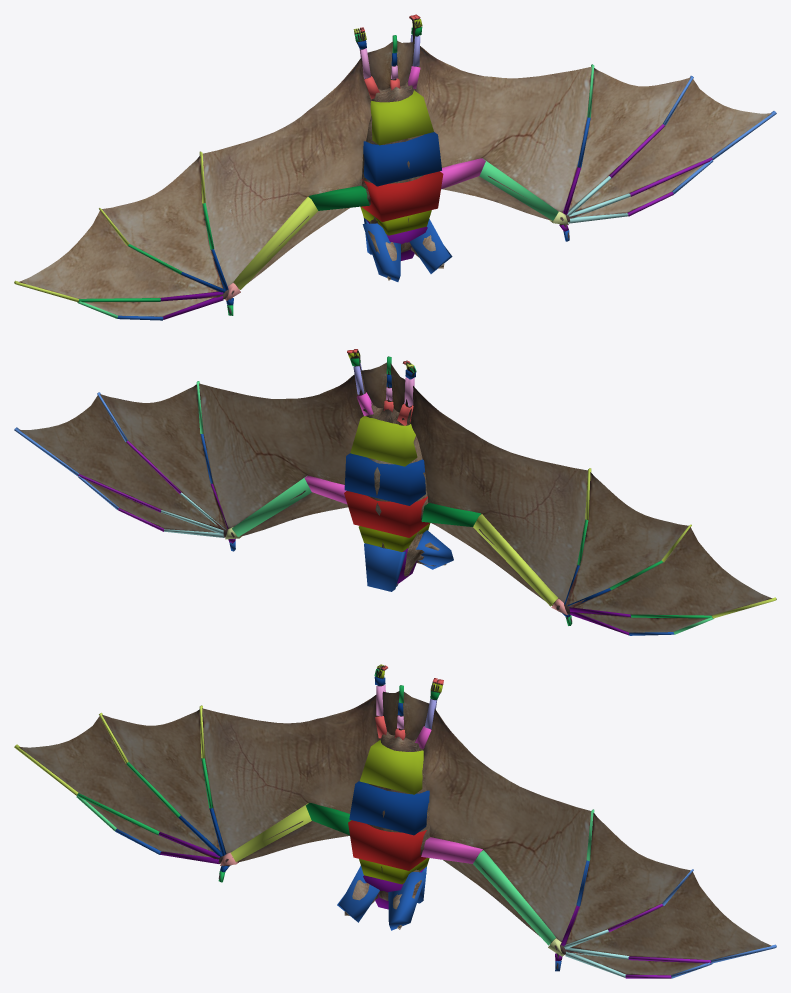
The model's file is Bat.obj.
3 renders of one model, top to bottom at view 1: azimuth 30°, elevation 25°; view 2: azimuth 150°, elevation 25°; view 3: azimuth 330°, elevation 25°, orthographic.
Visible parts, largest first — view 1: Bat___Vampire, Body, Body_front, Body_back, Wing_right_02, Wing_left_02, Ear_right, Wing_right_01, Ear_left, Neck, Wing_left_01; view 2: Bat___Vampire, Body, Body_back, Body_front, Wing_right_02, Jaw, Wing_left_02, Wing_right_01, Neck, Ear_right, Wing_left_01; view 3: Bat___Vampire, Body, Body_front, Body_back, Wing_left_02, Wing_right_02, Ear_left, Wing_left_01, Ear_right, Neck, Wing_right_01.
Part boxes in pixels (x1=…): Bat___Vampire: x1=19, y1=17, x2=771, y2=316; Body: x1=363, y1=132, x2=441, y2=186; Body_front: x1=361, y1=171, x2=443, y2=221; Body_back: x1=370, y1=90, x2=433, y2=145; Wing_right_02: x1=233, y1=197, x2=317, y2=289; Wing_left_02: x1=479, y1=159, x2=558, y2=220; Ear_right: x1=362, y1=223, x2=400, y2=281; Wing_right_01: x1=308, y1=185, x2=369, y2=210; Ear_left: x1=409, y1=219, x2=452, y2=273; Neck: x1=360, y1=206, x2=431, y2=235; Wing_left_01: x1=440, y1=158, x2=485, y2=189; Bat___Vampire: x1=19, y1=350, x2=772, y2=634; Body: x1=344, y1=453, x2=425, y2=505; Body_back: x1=350, y1=416, x2=417, y2=466; Body_front: x1=344, y1=491, x2=429, y2=537; Wing_right_02: x1=473, y1=514, x2=557, y2=606; Jaw: x1=364, y1=543, x2=406, y2=591; Wing_left_02: x1=232, y1=476, x2=311, y2=536; Wing_right_01: x1=421, y1=503, x2=480, y2=526; Neck: x1=358, y1=523, x2=430, y2=551; Ear_right: x1=416, y1=530, x2=453, y2=569; Wing_left_01: x1=304, y1=475, x2=347, y2=504; Bat___Vampire: x1=19, y1=665, x2=771, y2=975; Body: x1=349, y1=781, x2=429, y2=835; Body_front: x1=348, y1=820, x2=426, y2=870; Body_back: x1=359, y1=740, x2=423, y2=794; Wing_left_02: x1=473, y1=850, x2=555, y2=945; Wing_right_02: x1=230, y1=803, x2=311, y2=861; Ear_left: x1=388, y1=872, x2=426, y2=930; Wing_left_01: x1=421, y1=837, x2=482, y2=863; Ear_right: x1=337, y1=865, x2=379, y2=922; Neck: x1=359, y1=857, x2=429, y2=884; Wing_right_01: x1=305, y1=802, x2=351, y2=835.
Bounding box in the file's own units: 35.86 × 11.15 × 3.53.
Materials: 65 (4 with a texture image).
